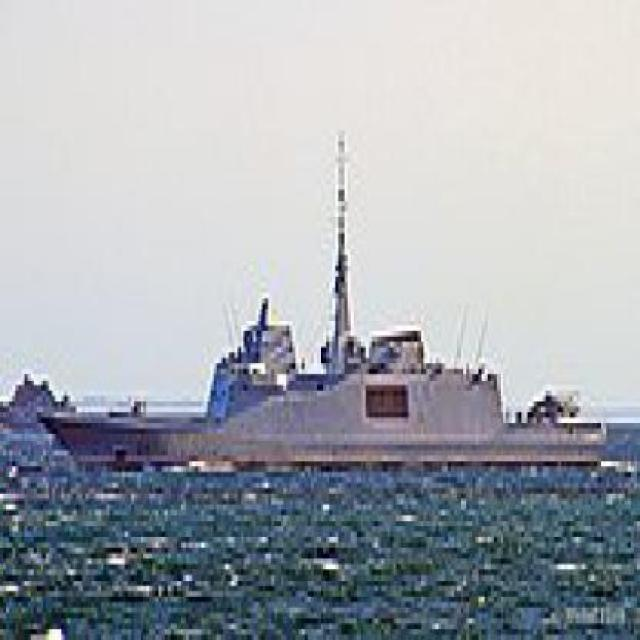warship2: (34, 88, 614, 489)
